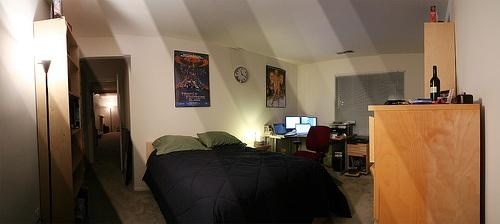bottle: (430, 66, 442, 104)
chair: (292, 126, 331, 167)
tvmonitor: (284, 116, 302, 133), (302, 117, 318, 128)
